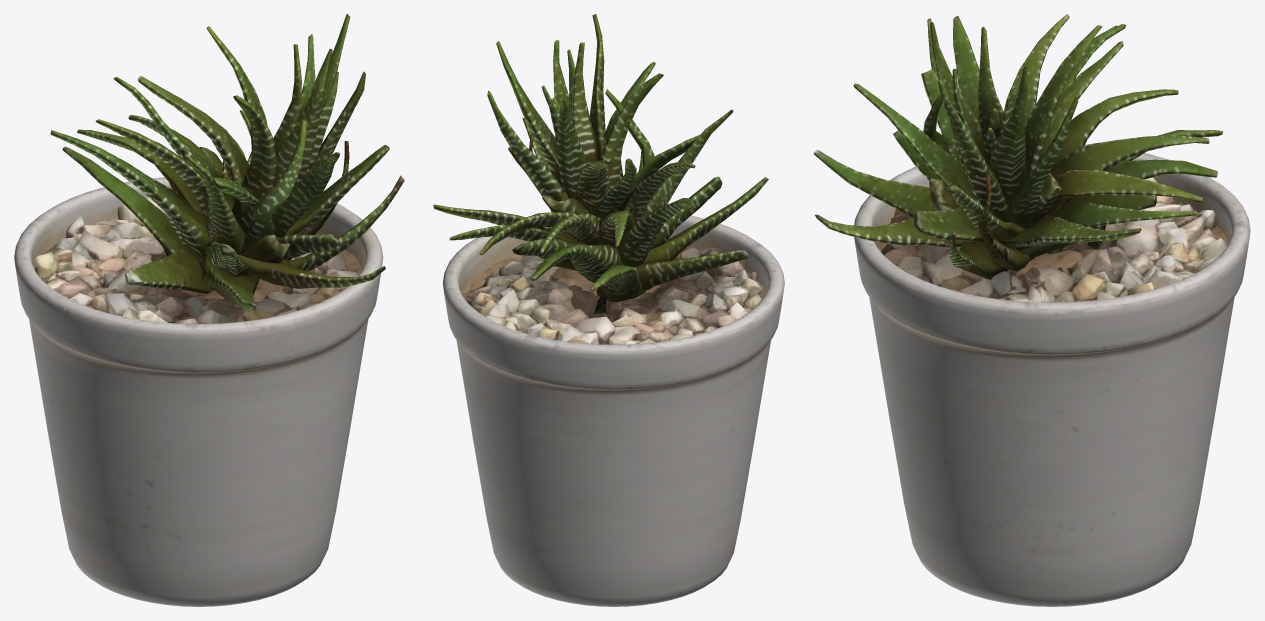
File: potted_plant_04.gltf
3 views of the same model, side by side, from view 1: azimuth 30°, elevation 25°; view 2: azimuth 150°, elevation 25°; view 3: azimuth 270°, elevation 25° (orthographic). The views are drawn at different scales.
Parts seen in each view (by area): view 1: potted_plant_04_pot, potted_plant_04_plant, potted_plant_04_ground, potted_plant_04_dirt; view 2: potted_plant_04_pot, potted_plant_04_plant, potted_plant_04_ground, potted_plant_04_dirt; view 3: potted_plant_04_pot, potted_plant_04_plant, potted_plant_04_ground, potted_plant_04_dirt.
Part boxes in pixels (x1,y1,x2,y2): potted_plant_04_pot: [14, 177, 383, 606]; potted_plant_04_plant: [50, 14, 404, 311]; potted_plant_04_ground: [34, 196, 357, 323]; potted_plant_04_dirt: [34, 238, 362, 307]; potted_plant_04_pot: [443, 215, 784, 606]; potted_plant_04_plant: [433, 14, 768, 314]; potted_plant_04_ground: [463, 247, 765, 344]; potted_plant_04_dirt: [462, 247, 765, 306]; potted_plant_04_pot: [854, 144, 1250, 606]; potted_plant_04_plant: [813, 14, 1222, 279]; potted_plant_04_ground: [881, 177, 1227, 302]; potted_plant_04_dirt: [875, 200, 1228, 297].
Bounding box in the file's own units: 0.1679 × 0.2675 × 0.1848.
Materials: 1 (1 with a texture image).
